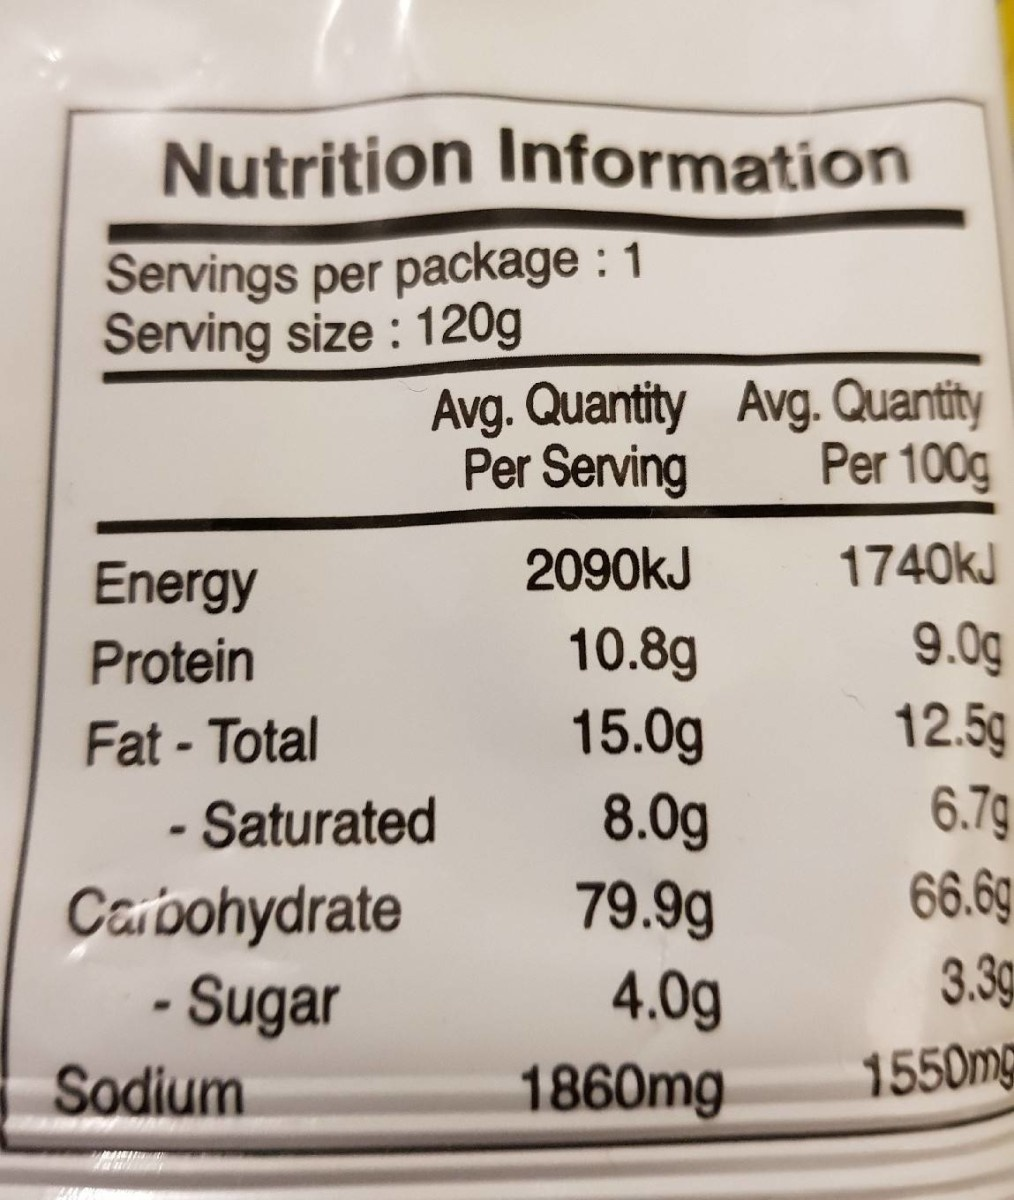column: (39, 554, 439, 1134), (447, 378, 723, 1122), (740, 373, 1014, 1121)
table: (14, 101, 1013, 1147)
